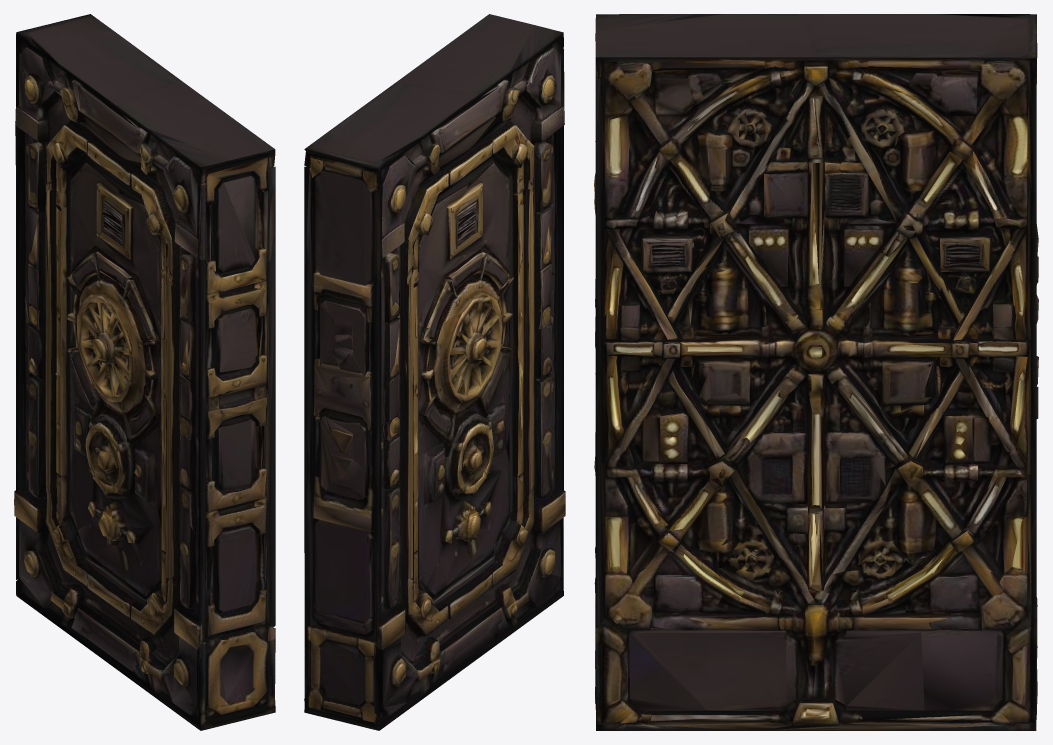
The model's file is cogs.glb.
3 views of the same model, side by side, from view 1: azimuth 30°, elevation 25°; view 2: azimuth 150°, elevation 25°; view 3: azimuth 270°, elevation 25° (orthographic). The views are drawn at different scales.
Visible parts, largest first — view 1: tripo_node_0b08de08-cdde-41d2-8749-9f83a90537c8; view 2: tripo_node_0b08de08-cdde-41d2-8749-9f83a90537c8; view 3: tripo_node_0b08de08-cdde-41d2-8749-9f83a90537c8.
Boxes of the visible parts, x1,y1,x2,y2 form: tripo_node_0b08de08-cdde-41d2-8749-9f83a90537c8: [14, 14, 275, 730]; tripo_node_0b08de08-cdde-41d2-8749-9f83a90537c8: [304, 14, 565, 730]; tripo_node_0b08de08-cdde-41d2-8749-9f83a90537c8: [594, 14, 1038, 730].
Bounding box in the file's own units: 0.1674 × 0.9793 × 0.5866.
1 material, 1 textured.
